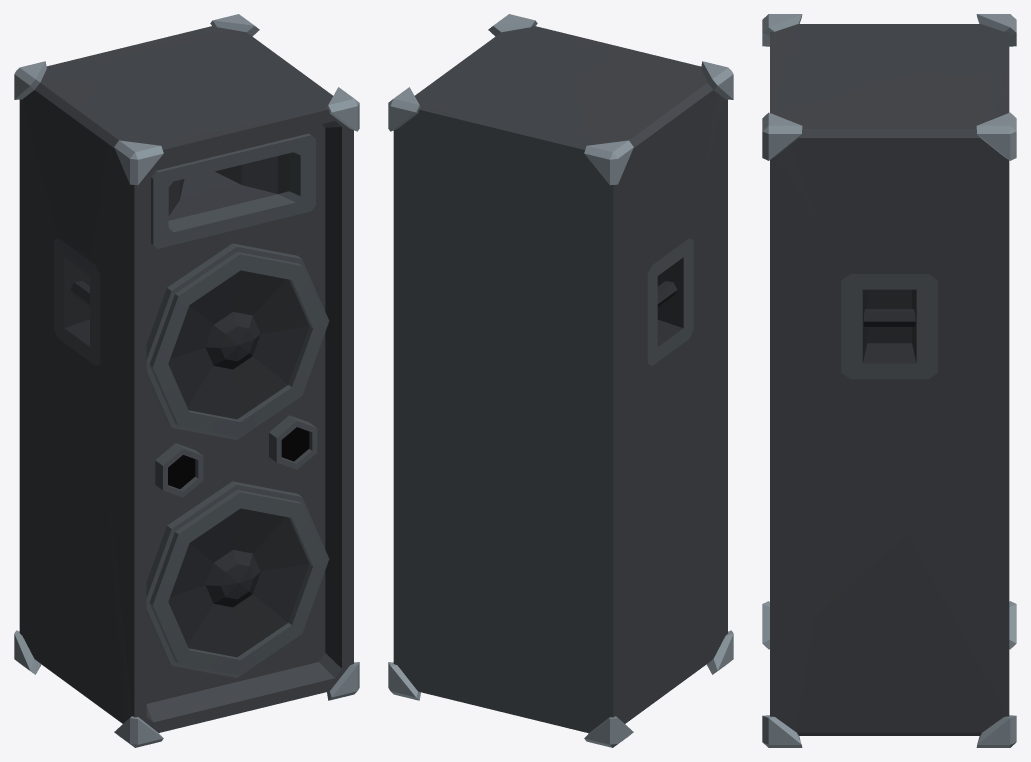
File: SM_Prop_Speaker_Large_01.obj
The picture shows the model from 3 angles, left to right: view 1: azimuth 30°, elevation 25°; view 2: azimuth 150°, elevation 25°; view 3: azimuth 270°, elevation 25°; orthographic projection. The views are drawn at different scales.
Parts seen in each view (by area): view 1: SM_Prop_Speaker_Large_01_0; view 2: SM_Prop_Speaker_Large_01_0; view 3: SM_Prop_Speaker_Large_01_0.
Boxes of the visible parts, bbox=[...] form: SM_Prop_Speaker_Large_01_0: bbox=[14, 14, 359, 747]; SM_Prop_Speaker_Large_01_0: bbox=[388, 14, 733, 747]; SM_Prop_Speaker_Large_01_0: bbox=[762, 14, 1016, 747].
Size of the model in its own units: 0.5895 by 1.46 by 0.5407.
Materials: 1 (1 with a texture image).
